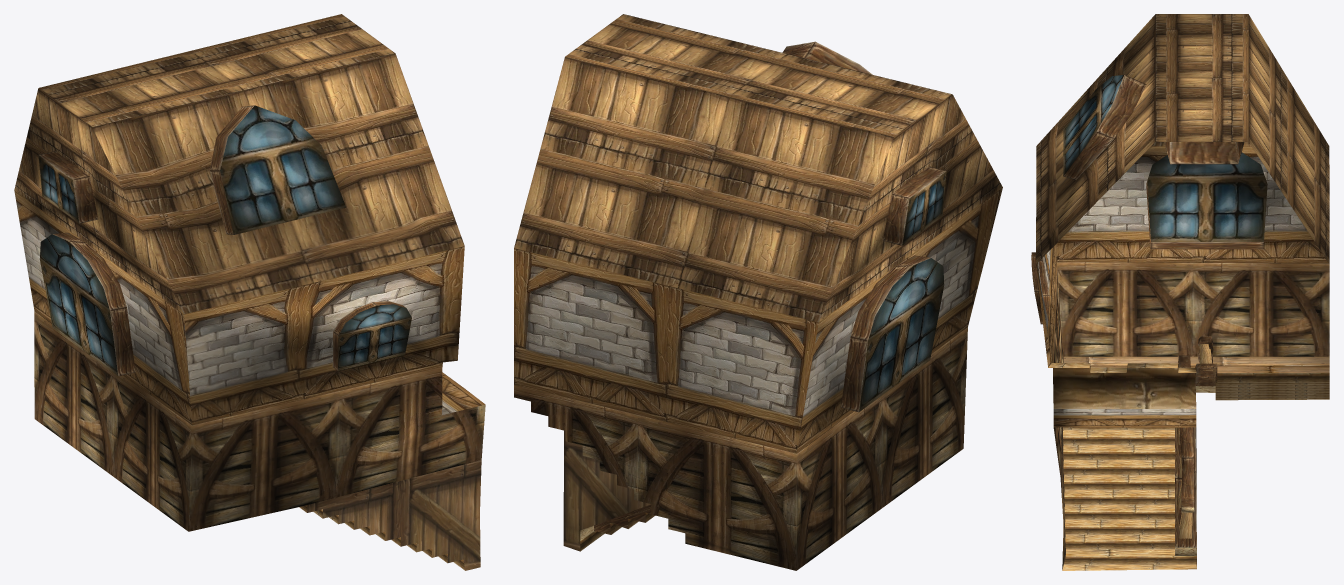
The model's file is stormwind_218.fbx.
3 renders of one model, left to right at view 1: azimuth 30°, elevation 25°; view 2: azimuth 150°, elevation 25°; view 3: azimuth 270°, elevation 25°, orthographic. The views are drawn at different scales.
Parts seen in each view (by area): view 1: stormwind_218_55, stormwind_218_49, stormwind_218_87, stormwind_218_84, stormwind_218_56, stormwind_218_53; view 2: stormwind_218_55, stormwind_218_87, stormwind_218_49, stormwind_218_84, stormwind_218_53, stormwind_218_56; view 3: stormwind_218_53, stormwind_218_55, stormwind_218_49, stormwind_218_87, stormwind_218_84, stormwind_218_51, stormwind_218_54, stormwind_218_56.
Boxes of the visible parts, box(x1,y1,x2,y2) form: stormwind_218_55: box(14, 14, 464, 314); stormwind_218_49: box(34, 311, 485, 531); stormwind_218_87: box(14, 190, 485, 425); stormwind_218_84: box(38, 105, 411, 375); stormwind_218_56: box(307, 460, 481, 570); stormwind_218_53: box(39, 105, 465, 570); stormwind_218_55: box(514, 14, 1002, 322); stormwind_218_87: box(514, 187, 1002, 453); stormwind_218_49: box(514, 327, 967, 570); stormwind_218_84: box(859, 171, 946, 411); stormwind_218_53: box(580, 41, 946, 551); stormwind_218_56: box(563, 430, 650, 551); stormwind_218_53: box(1031, 75, 1329, 570); stormwind_218_55: box(1036, 14, 1329, 263); stormwind_218_49: box(1053, 262, 1329, 476); stormwind_218_87: box(1036, 146, 1328, 427); stormwind_218_84: box(1063, 75, 1267, 241); stormwind_218_51: box(1063, 356, 1329, 372); stormwind_218_54: box(1175, 344, 1215, 555); stormwind_218_56: box(1060, 364, 1196, 569).
Size of the model in its own units: 11.33 by 15.25 by 9.91.
